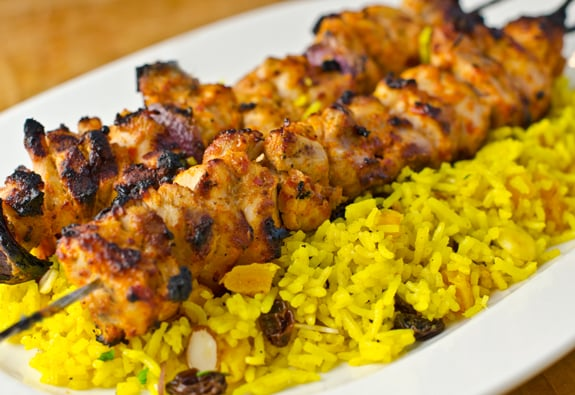sandwich: (0, 277, 101, 340)
